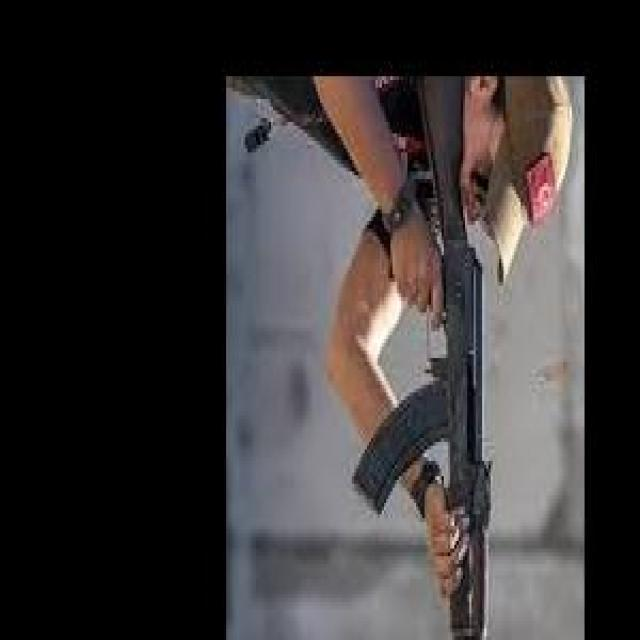weapon: (352, 75, 494, 640)
